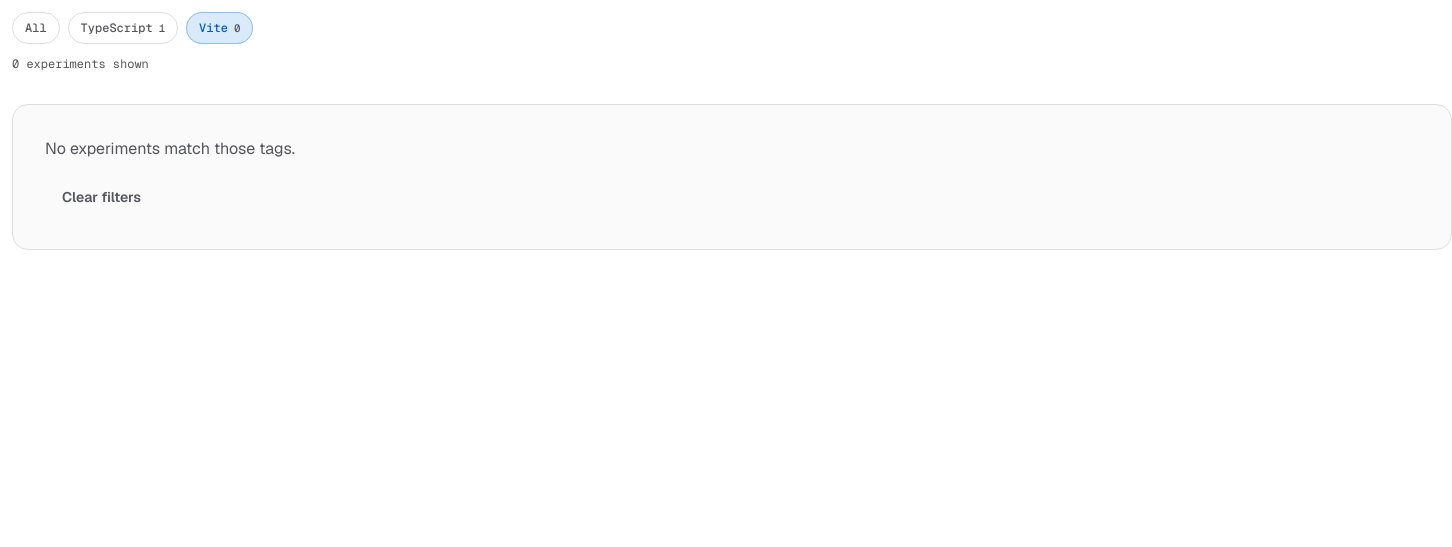
Test: ExperimentsGallery › shows the empty state with a working "Clear filters" button
Expected: the text "No experiments match those tags." is shown, [45, 137, 295, 161]
Expected: the text "0 experiments shown" is shown, [12, 56, 149, 72]
Click the button "Clear filters": (102, 197) [45, 177, 158, 217]
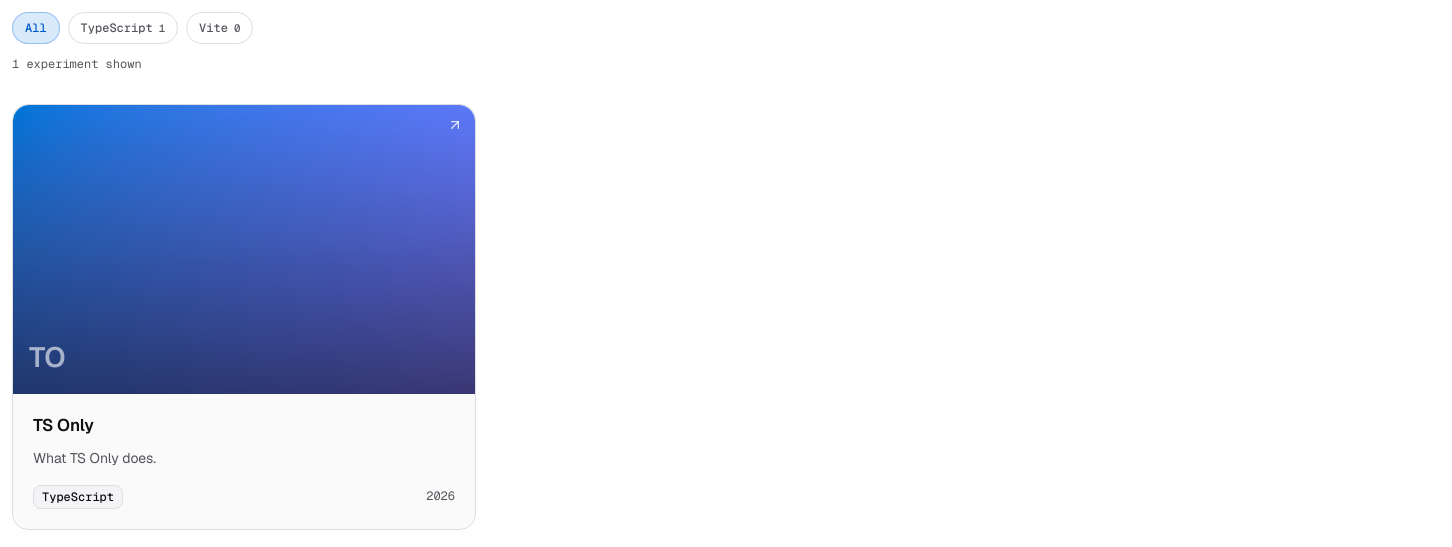
Result: the heading "TS Only" is shown at [33, 413, 252, 436]
